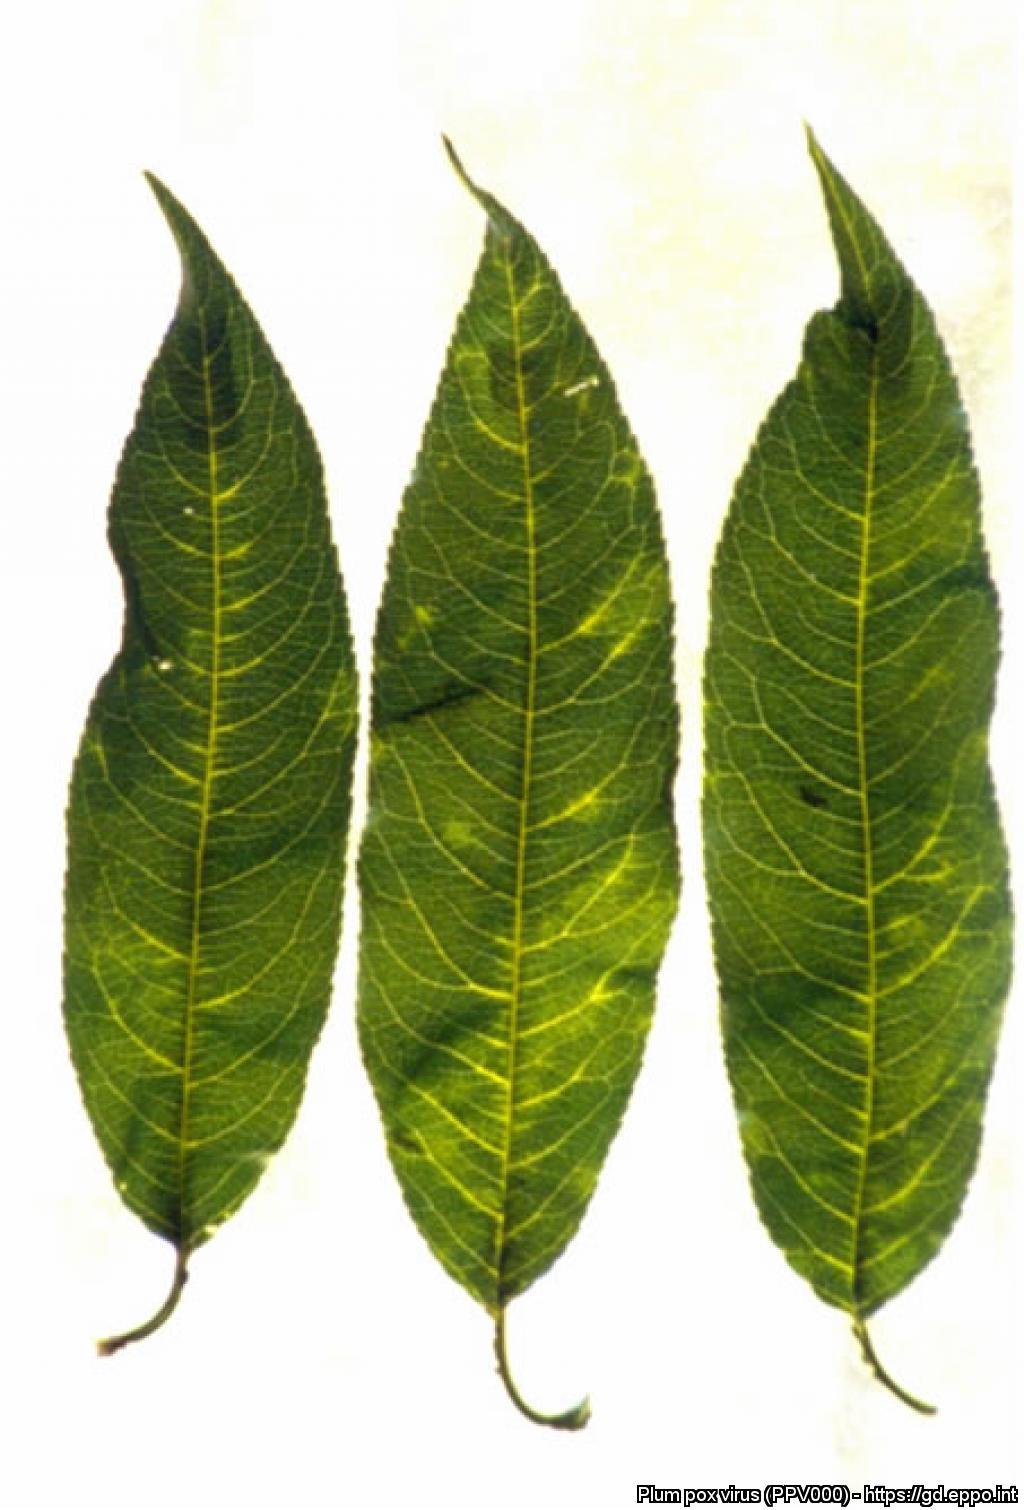Peach leaf: (333, 120, 697, 1456), (699, 88, 1008, 1443), (45, 126, 366, 1379)
